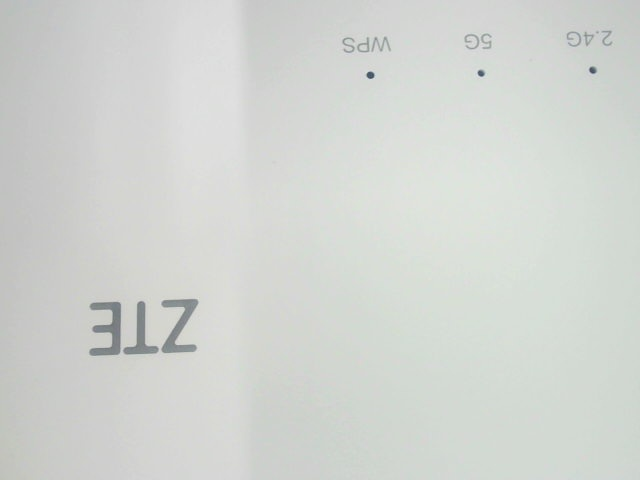AN_ZTE: (79, 289, 208, 358)
